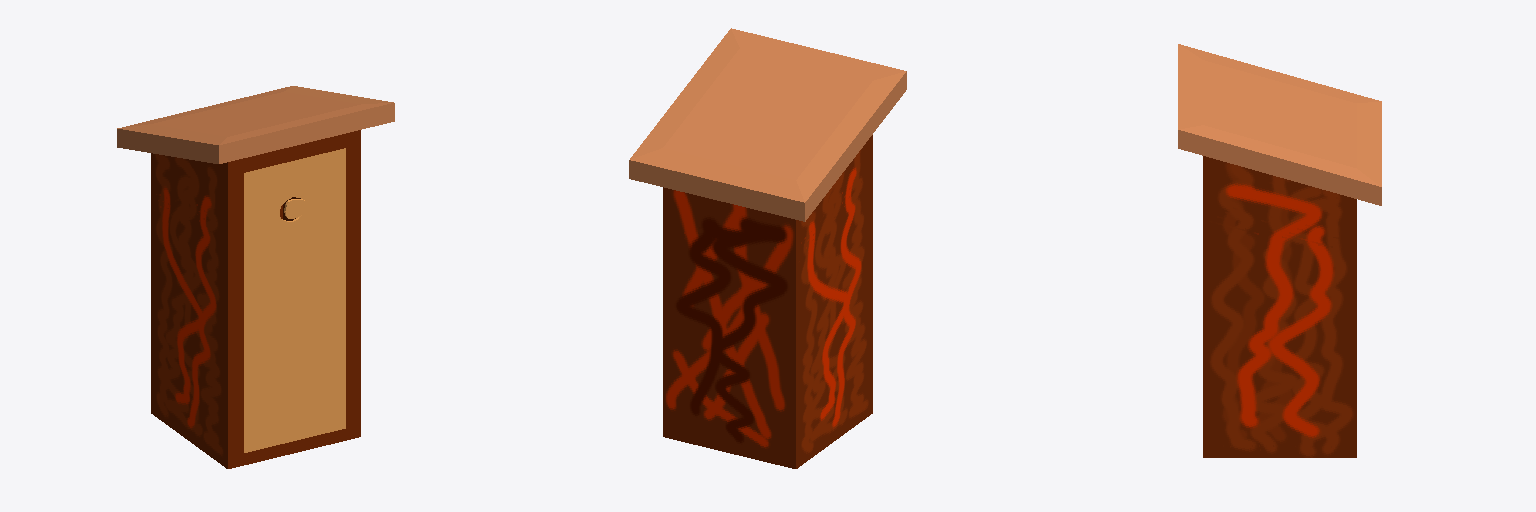
The picture shows the model from 3 angles: view 1: azimuth 30°, elevation 25°; view 2: azimuth 150°, elevation 25°; view 3: azimuth 270°, elevation 25°; orthographic projection.
Visible parts, largest first — view 1: Cube; view 2: Cube; view 3: Cube.
Boxes of the visible parts, x1,y1,x2,y2 form: Cube: [117, 86, 394, 468]; Cube: [629, 28, 906, 468]; Cube: [1178, 44, 1381, 457].
Bounding box in the file's own units: 6.93 × 12.73 × 6.93.
Materials: 1 (1 with a texture image).